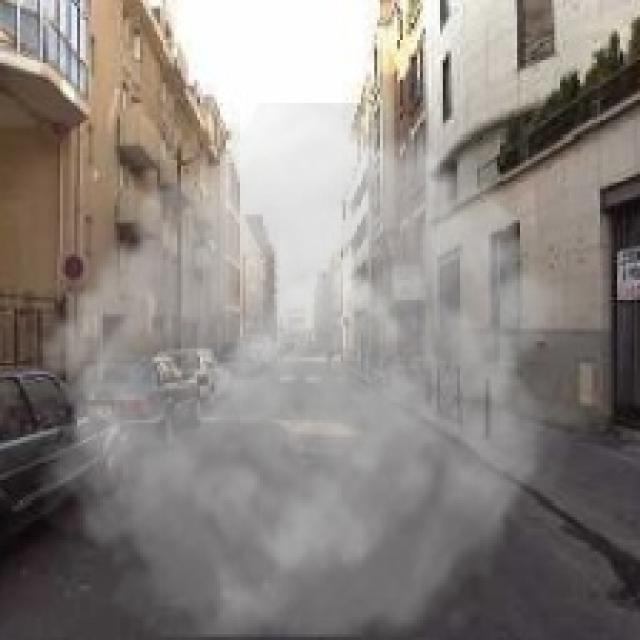smoke: (17, 103, 586, 637)
